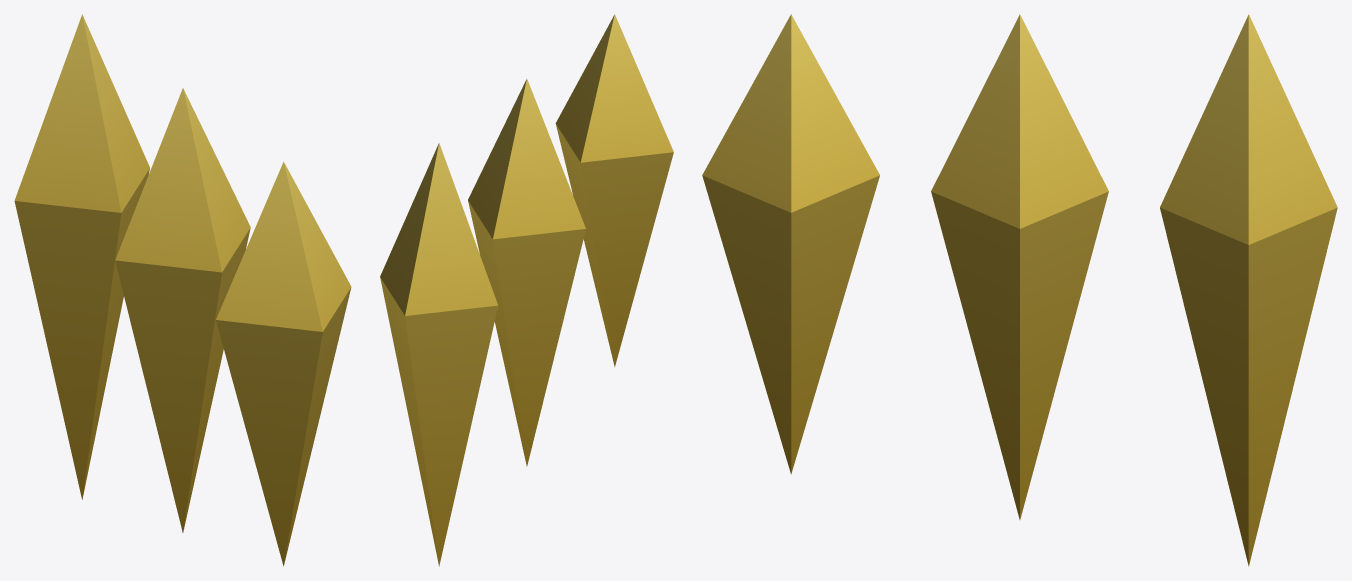
The model's file is acc_Boucles.fbx.
The picture shows the model from 3 angles, left to right: view 1: azimuth 30°, elevation 25°; view 2: azimuth 150°, elevation 25°; view 3: azimuth 270°, elevation 25°; orthographic projection. The views are drawn at different scales.
Visible parts, largest first — view 1: Acc_Boucles; view 2: Acc_Boucles; view 3: Acc_Boucles.
Part boxes in pixels (x1,y1,x2,y2): Acc_Boucles: [14, 14, 351, 566]; Acc_Boucles: [380, 14, 673, 566]; Acc_Boucles: [702, 14, 1337, 566].
Size of the model in its own units: 7 by 24 by 25.
1 material, 1 textured.
